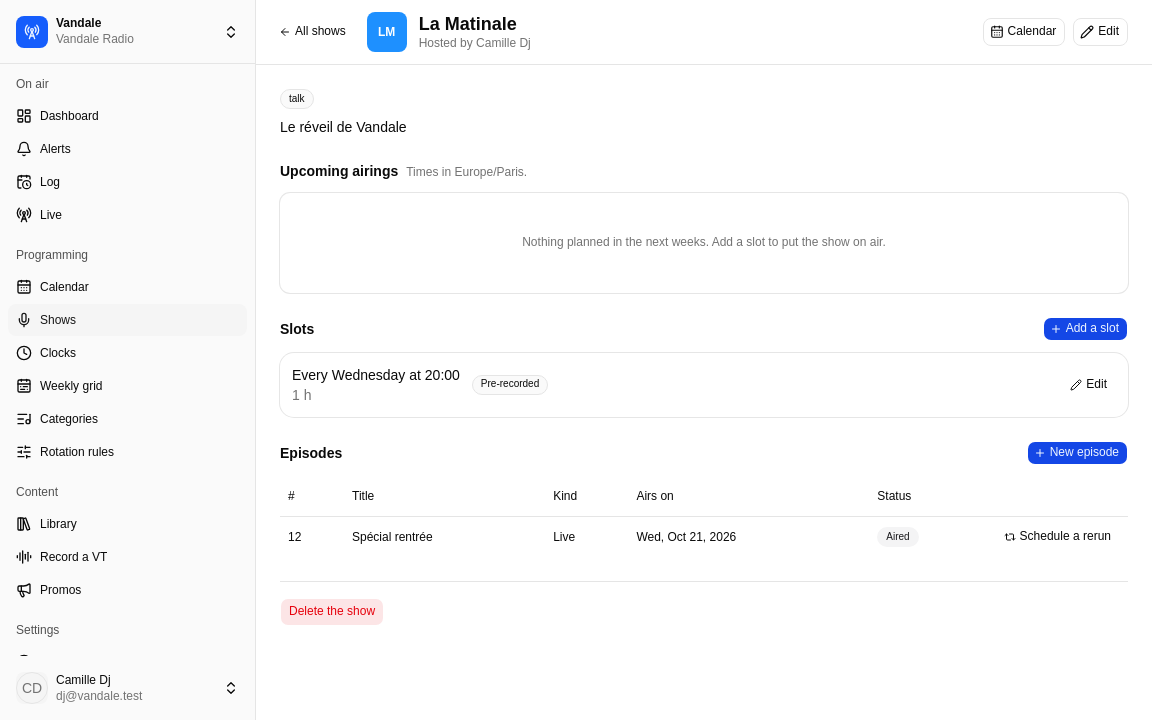
show page › shows a live episode's recording, and lets a manager process it again (#67)
The width and height of the screenshot is (1152, 720).
Click the button named "Episode #12": click(295, 537) [288,529,301,545]
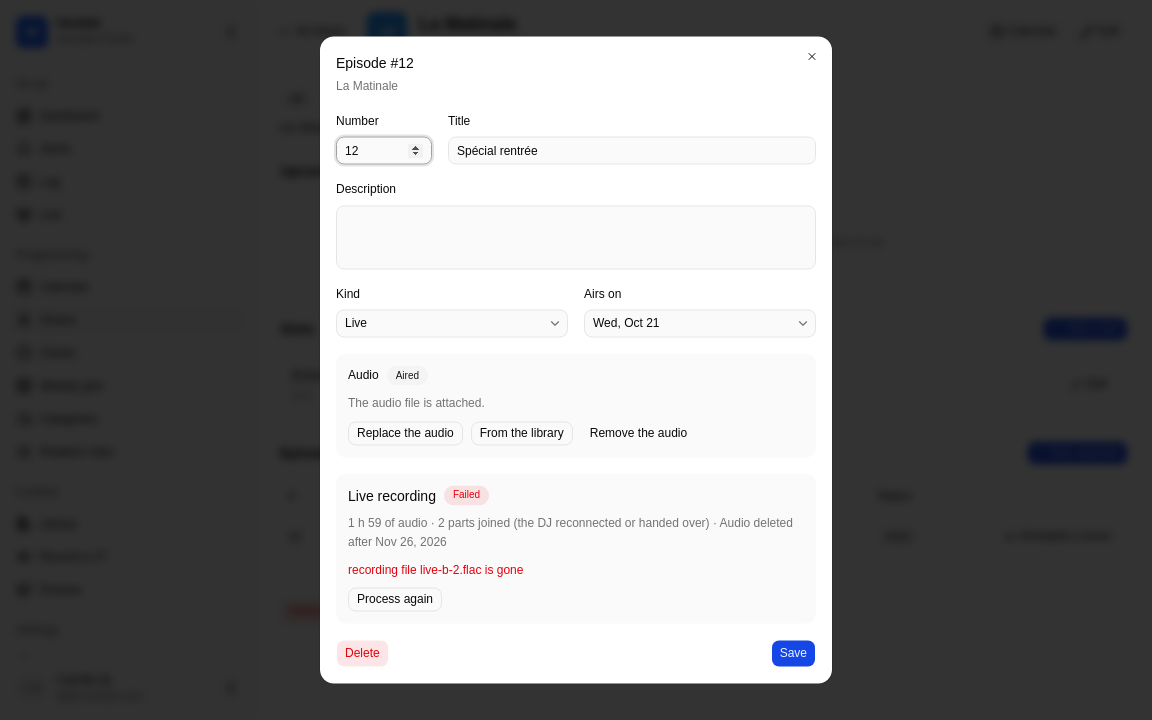
Now the icon "Failed" is shown, box [444,485,489,505]
Now the text "recording file live-b-2.flac is gone" is shown, box [348,562,523,576]
Now the text "1 h 59 of audio · 2 parts joined" is shown, box [348,515,793,548]
Click the button "Process again": click(395, 600) [348,588,442,612]
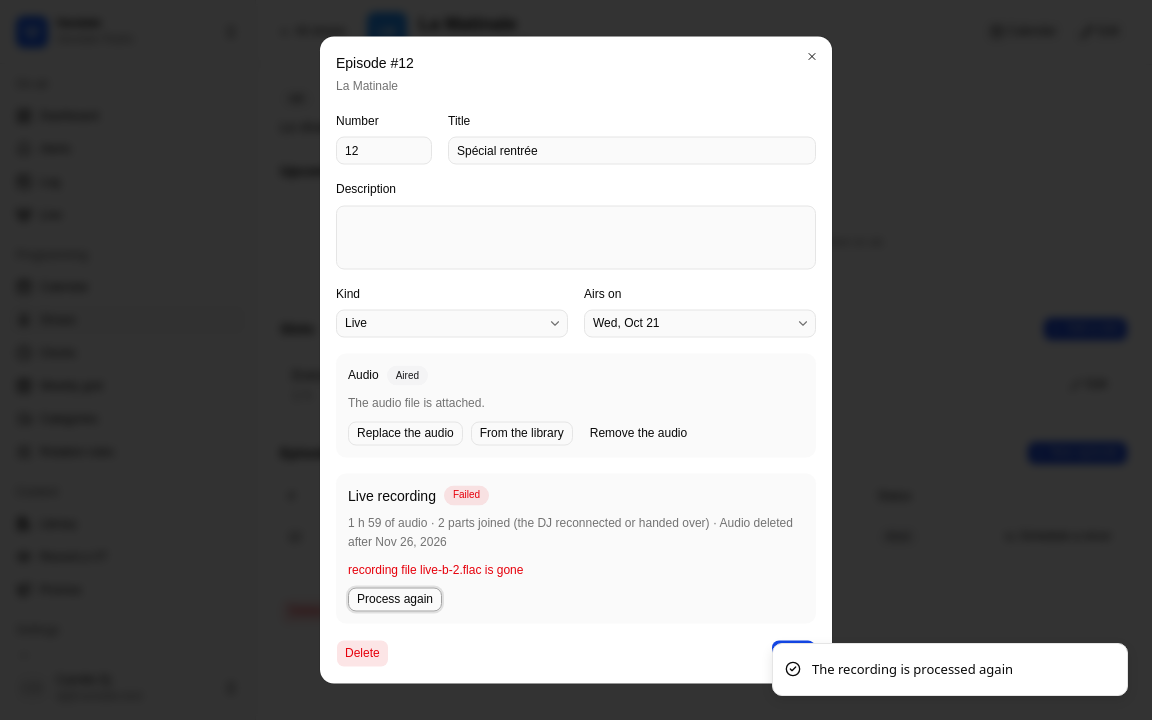
Now the text "The recording is processed again" is shown, box [812,660,1013,679]
